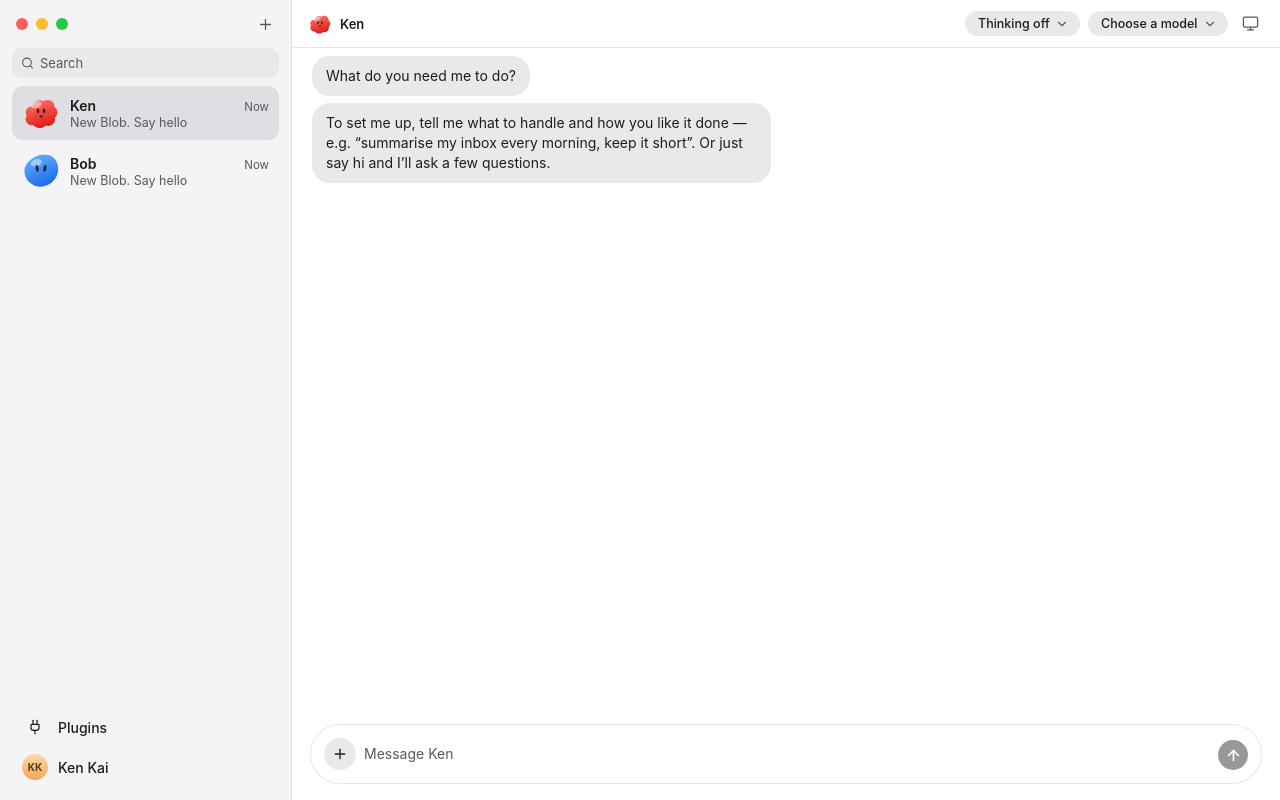
Scenario: App › clears the draft when switching Blobs without remounting the pane
The width and height of the screenshot is (1280, 800).
Type "draft for ken" into the text box labelled "Message Ken" at (787, 754), box [364,738,1210,770]
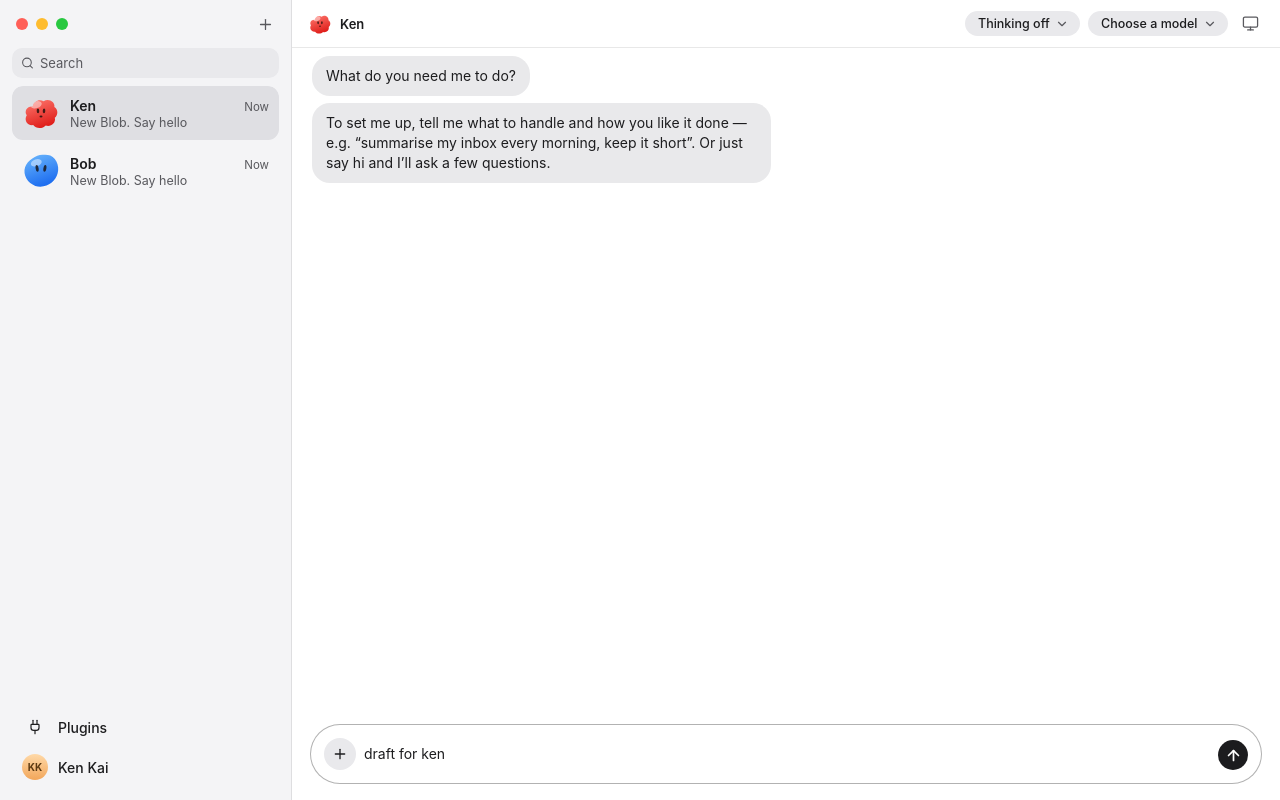
Click the button "Bob Now New Blob. Say hello" at (146, 171), box [12,144,279,198]
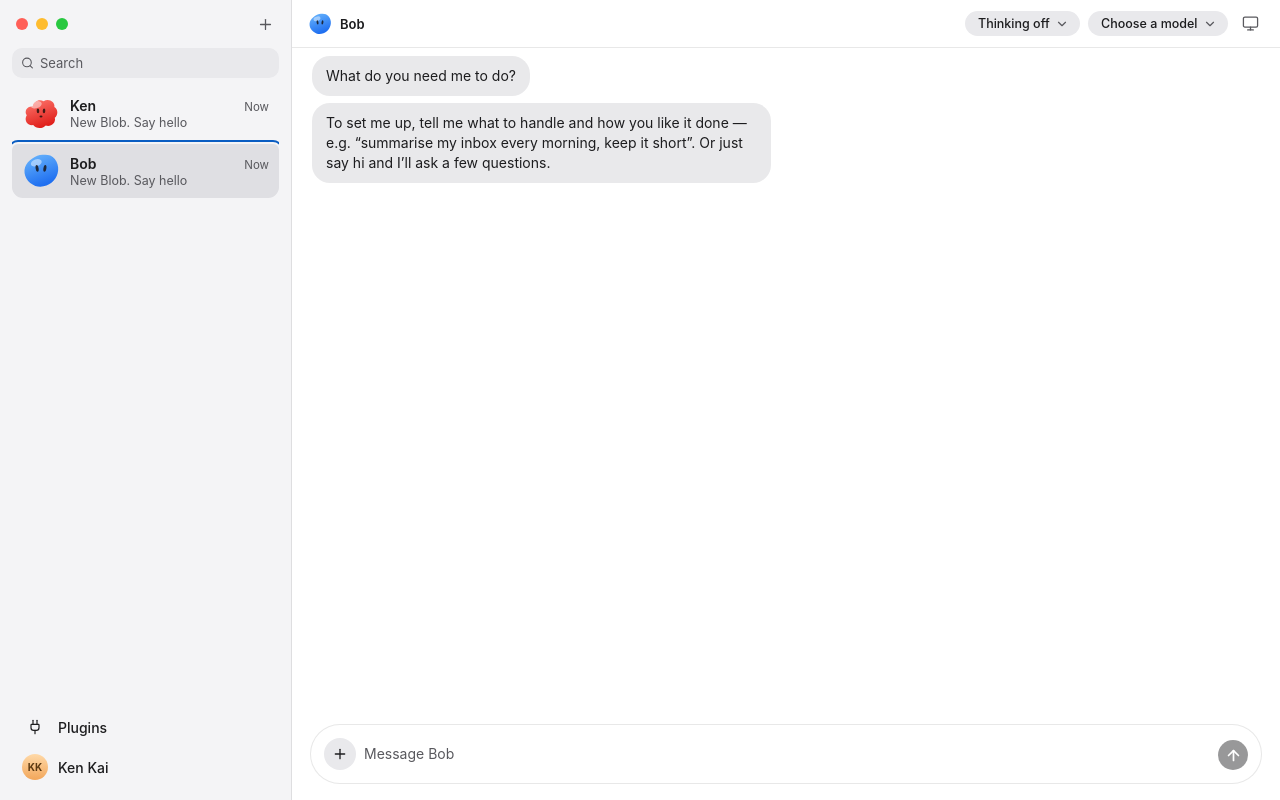
Now the heading "Bob" is shown, box [340,16,365,32]
Now the text box labelled "Message Bob" is empty, box [364,738,1210,770]
